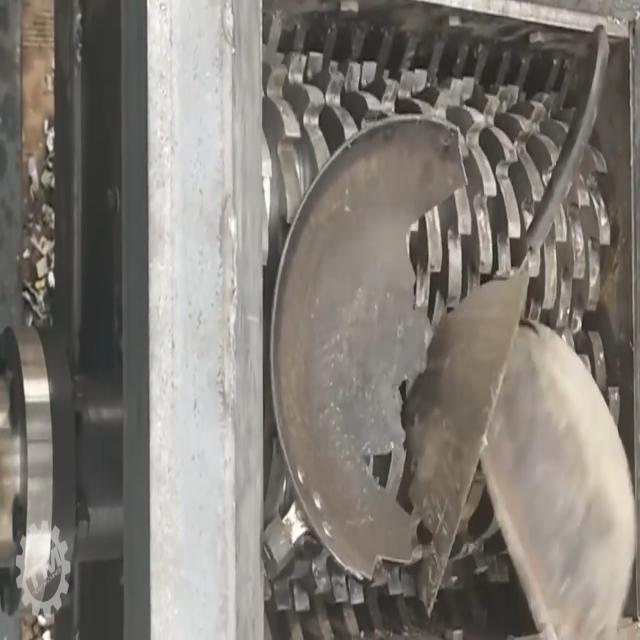Broyeur: (246, 0, 640, 640)
